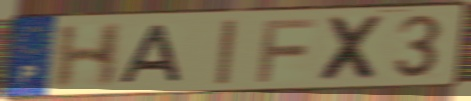3: (392, 12, 448, 81)
A: (116, 22, 186, 87)
F: (254, 17, 322, 85)
H: (51, 21, 128, 92)
I: (213, 17, 240, 87)
X: (316, 13, 390, 83)
